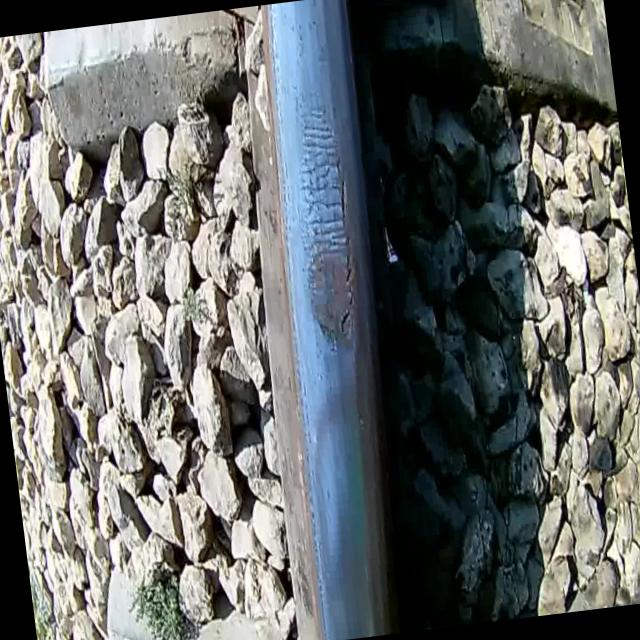Cracks: (326, 154, 364, 306)
Spallings: (330, 301, 360, 346)
Squats: (279, 82, 372, 358)
